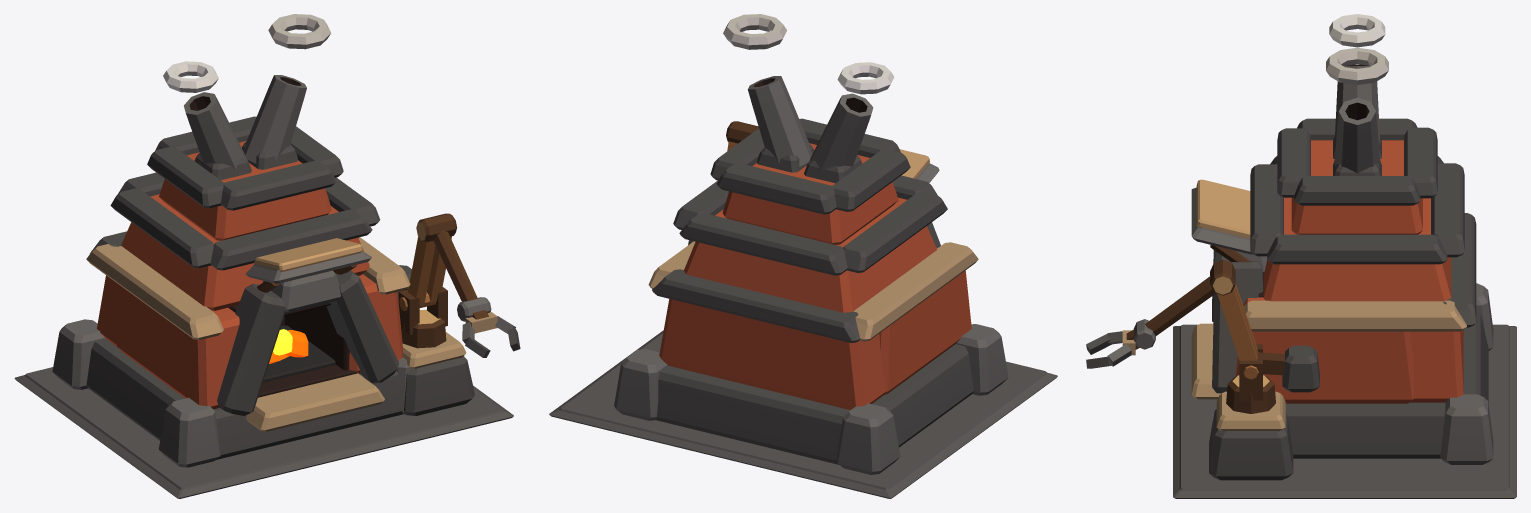
Rendered from charcoal_kiln.glb.
3 renders of one model, left to right at view 1: azimuth 30°, elevation 25°; view 2: azimuth 150°, elevation 25°; view 3: azimuth 270°, elevation 25°, orthographic. The views are drawn at different scales.
Visible parts, largest first — view 1: CharcoalKiln_Static, ArmShoulder_Pitch, ArmBase_Yaw, ArmElbow_Pitch, Anim_Smoke_R1, Anim_Smoke_L1, AnimatedPart; view 2: CharcoalKiln_Static, Anim_Smoke_R1, Anim_Smoke_L1, ArmShoulder_Pitch; view 3: CharcoalKiln_Static, ArmShoulder_Pitch, ArmBase_Yaw, Anim_Smoke_R1, ArmElbow_Pitch, Anim_Smoke_L1, ClawRight, ClawLeft.
Part boxes in pixels (x1,y1,x2,y2): CharcoalKiln_Static: [14, 75, 513, 498]; ArmShoulder_Pitch: [397, 213, 457, 305]; ArmBase_Yaw: [398, 287, 447, 348]; ArmElbow_Pitch: [433, 230, 491, 321]; Anim_Smoke_R1: [268, 14, 330, 49]; Anim_Smoke_L1: [163, 61, 218, 92]; AnimatedPart: [269, 329, 308, 363]; CharcoalKiln_Static: [549, 76, 1057, 498]; Anim_Smoke_R1: [723, 14, 786, 49]; Anim_Smoke_L1: [837, 62, 894, 94]; ArmShoulder_Pitch: [688, 121, 758, 245]; CharcoalKiln_Static: [1173, 64, 1516, 498]; ArmShoulder_Pitch: [1210, 259, 1319, 392]; ArmBase_Yaw: [1226, 344, 1275, 413]; Anim_Smoke_R1: [1326, 47, 1388, 84]; ArmElbow_Pitch: [1133, 276, 1215, 349]; Anim_Smoke_L1: [1329, 14, 1385, 47]; ClawRight: [1086, 344, 1131, 368]; ClawLeft: [1086, 331, 1122, 354].
Size of the model in its own units: 2.6 by 2.65 by 2.76.
